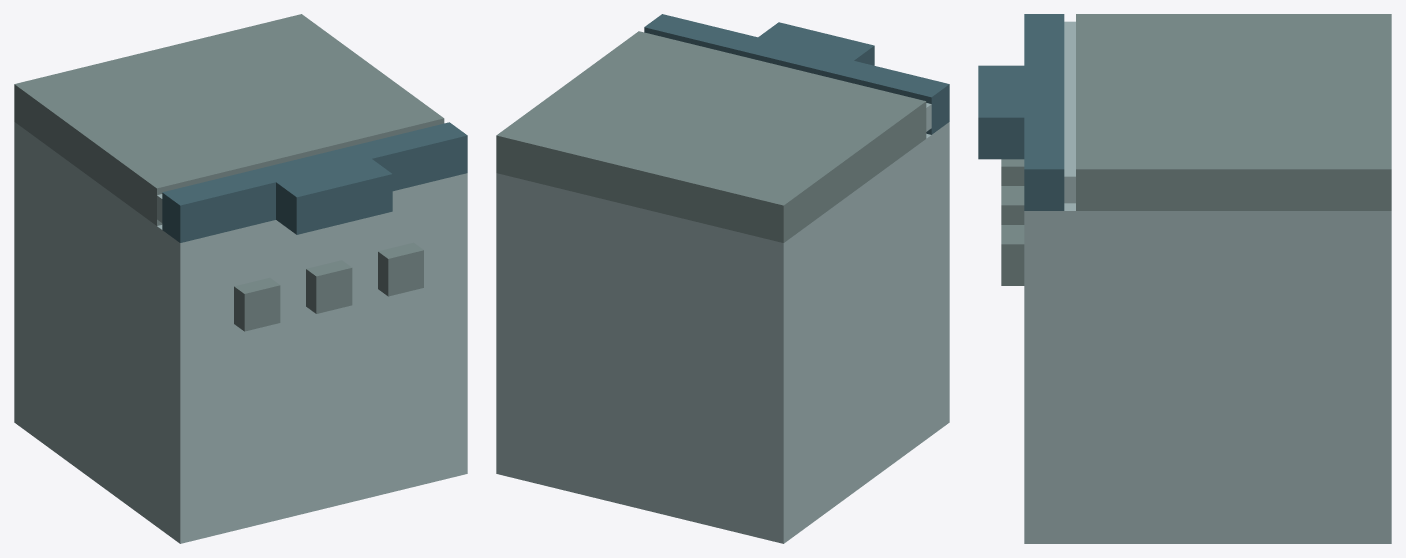
Rendered from FloorBlock-SmallOut.002.fbx.
3 views of the same model, side by side, from view 1: azimuth 30°, elevation 25°; view 2: azimuth 150°, elevation 25°; view 3: azimuth 270°, elevation 25° (orthographic). The views are drawn at different scales.
Visible parts, largest first — view 1: FloorBlock-SmallOut.002; view 2: FloorBlock-SmallOut.002; view 3: FloorBlock-SmallOut.002.
Part boxes in pixels (box(x1,y1,x2,y2)): FloorBlock-SmallOut.002: box(14, 14, 467, 543); FloorBlock-SmallOut.002: box(496, 14, 949, 543); FloorBlock-SmallOut.002: box(978, 14, 1391, 543).
Size of the model in its own units: 800 by 900 by 900.
